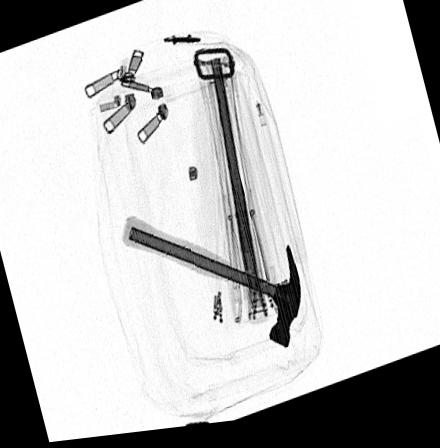Hammer: (120, 218, 300, 355)
